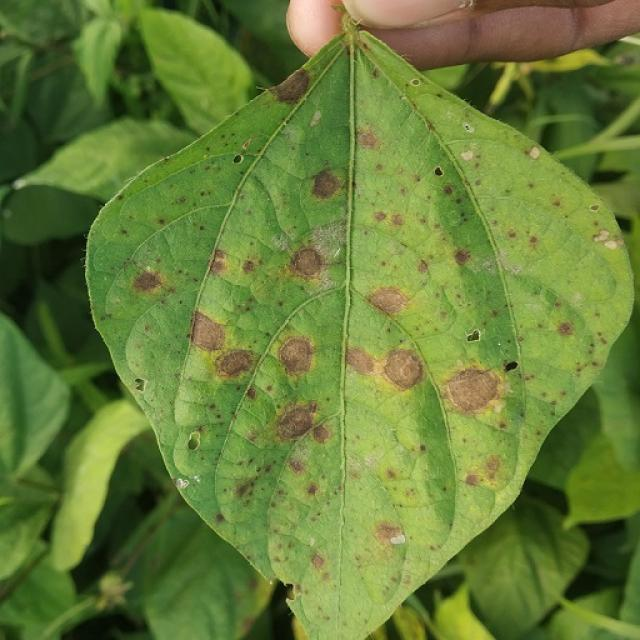Anthracnose: (348, 343, 427, 395), (444, 366, 502, 414), (357, 278, 417, 320), (275, 402, 318, 441), (277, 335, 314, 377), (270, 69, 310, 103), (288, 244, 327, 278), (216, 349, 256, 380), (310, 168, 342, 200), (132, 268, 164, 295), (374, 521, 405, 547), (209, 248, 229, 274), (235, 478, 256, 499), (357, 130, 380, 149), (288, 456, 306, 474), (186, 431, 202, 451), (453, 249, 471, 266), (133, 377, 148, 393), (557, 321, 573, 336), (311, 553, 325, 569), (242, 259, 256, 274), (503, 360, 519, 373), (466, 329, 481, 342), (465, 473, 480, 486), (527, 146, 541, 159), (391, 213, 404, 226), (306, 483, 319, 496), (417, 260, 428, 274), (373, 211, 387, 222), (433, 166, 445, 178), (286, 589, 297, 602), (462, 122, 474, 133), (443, 185, 454, 196), (232, 154, 244, 164), (529, 236, 538, 246), (507, 230, 517, 239)
Blackgram: (86, 19, 631, 639)
